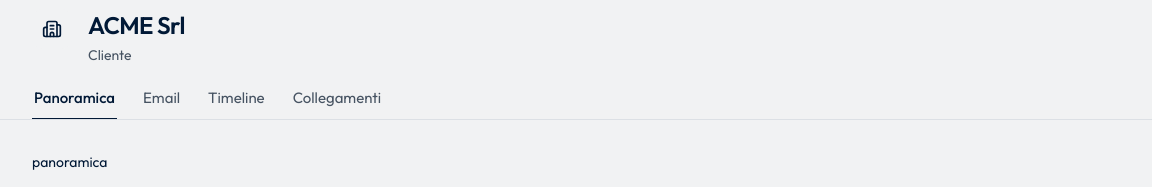
Test: EntityDetailLayout › shows an Email tab with its own contents when emails is given
Click the tab "Email": (162, 103) [141,87,182,120]
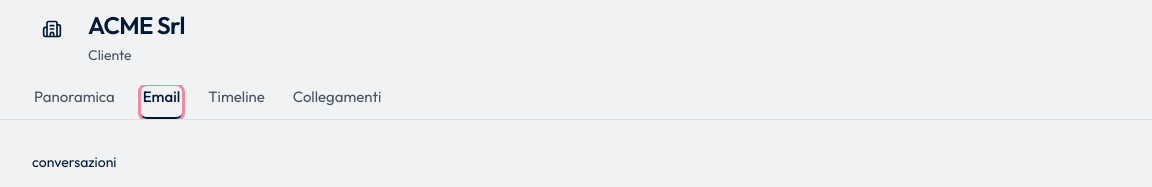
Now the text "conversazioni" is shown, box [32,152,116,170]
